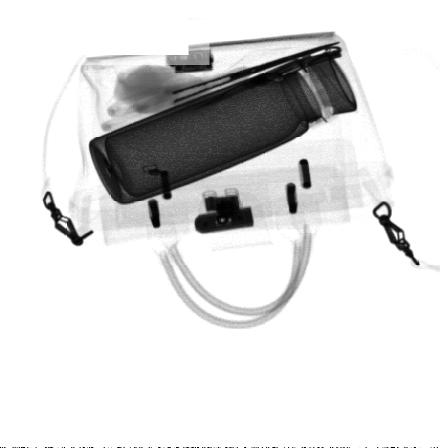Knife: (190, 44, 343, 104)
Scissors: (99, 40, 342, 130)
